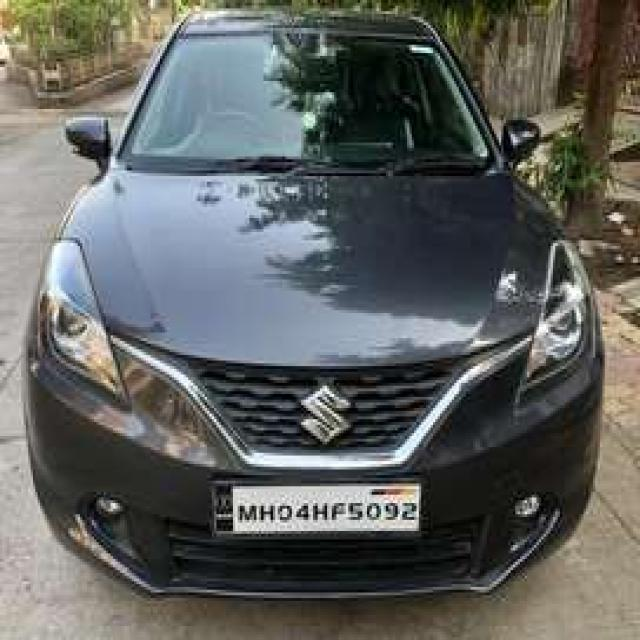Plate: (211, 482, 418, 529)
